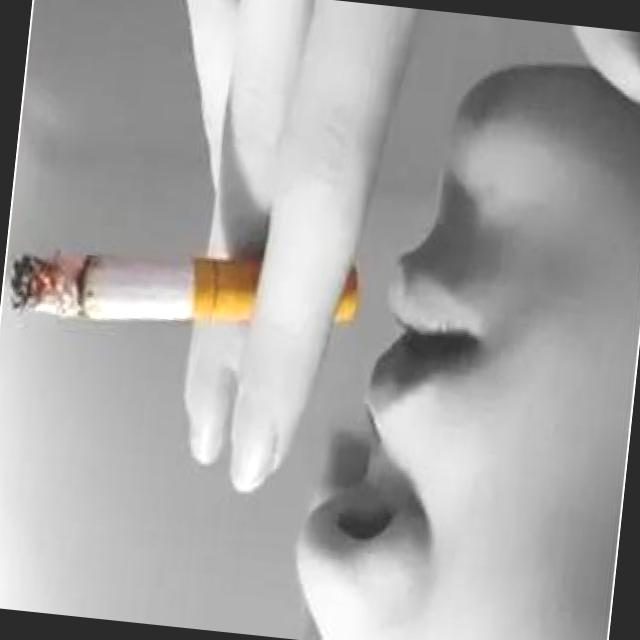smoke: (9, 240, 194, 334)
